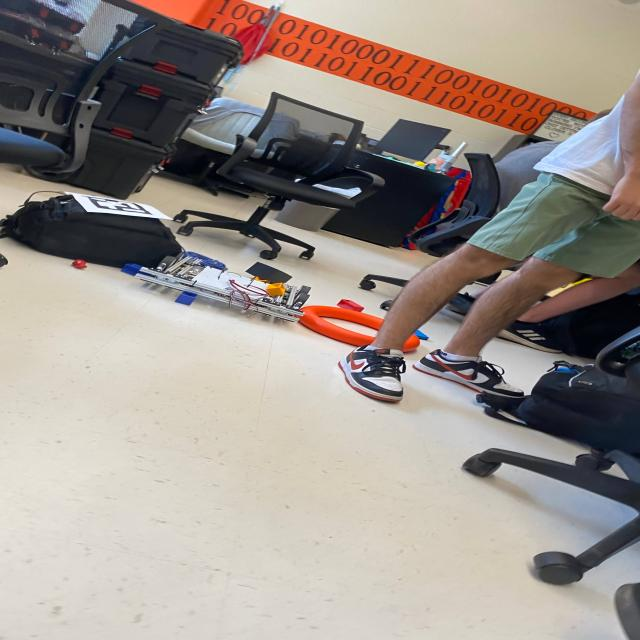blue-specimen: (175, 291, 196, 306), (121, 263, 142, 276)
red-specimen: (337, 299, 364, 312)
yellow-specimen: (266, 283, 285, 297)
